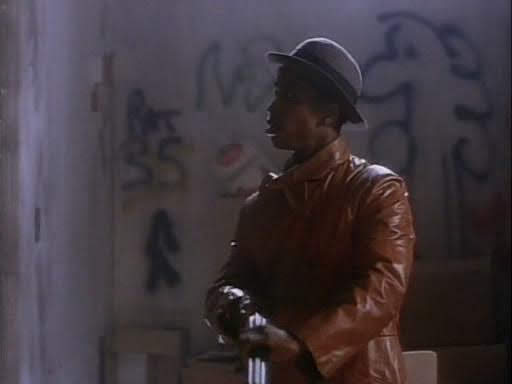gun: (211, 276, 299, 382)
